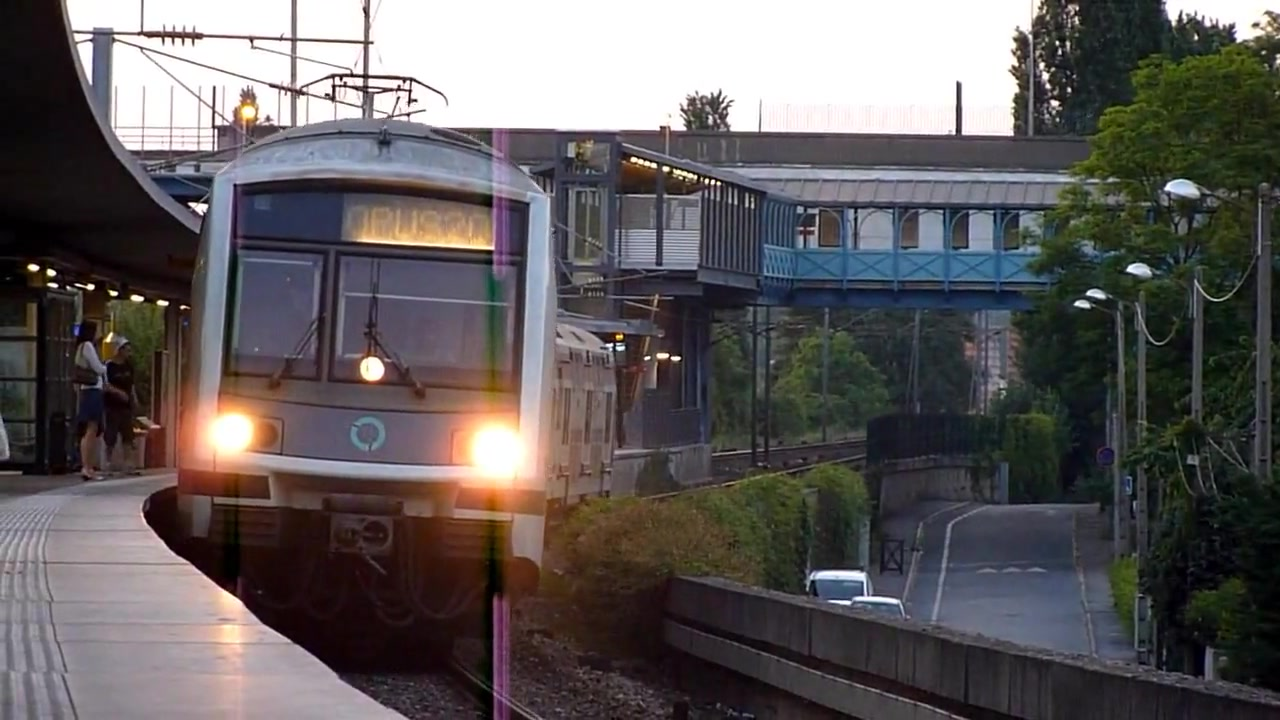train: (171, 110, 623, 606)
